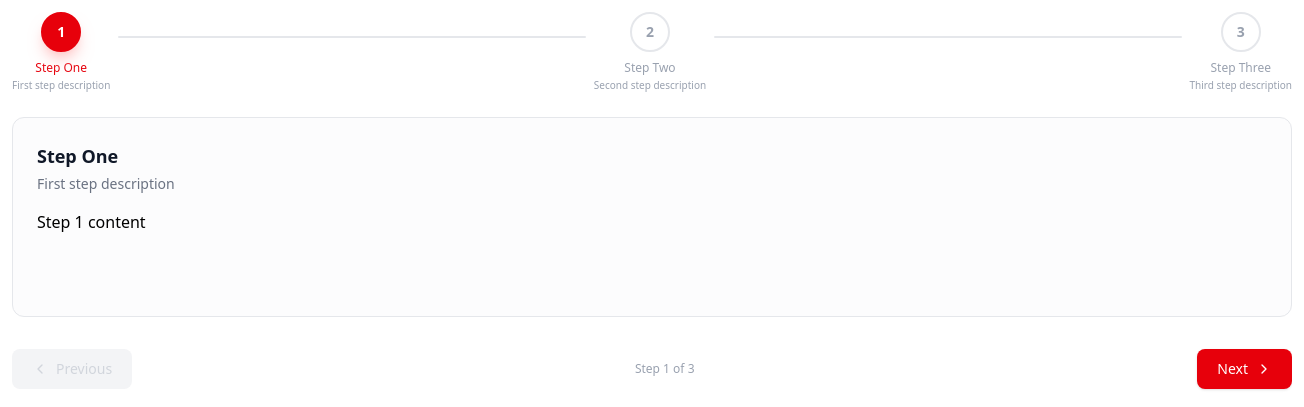
Test: Form Component — Multi-Stage Navigation › Step Navigation › shows the Submit button on the last step
Click the button "Next" at (1245, 369), box [1197, 349, 1292, 389]
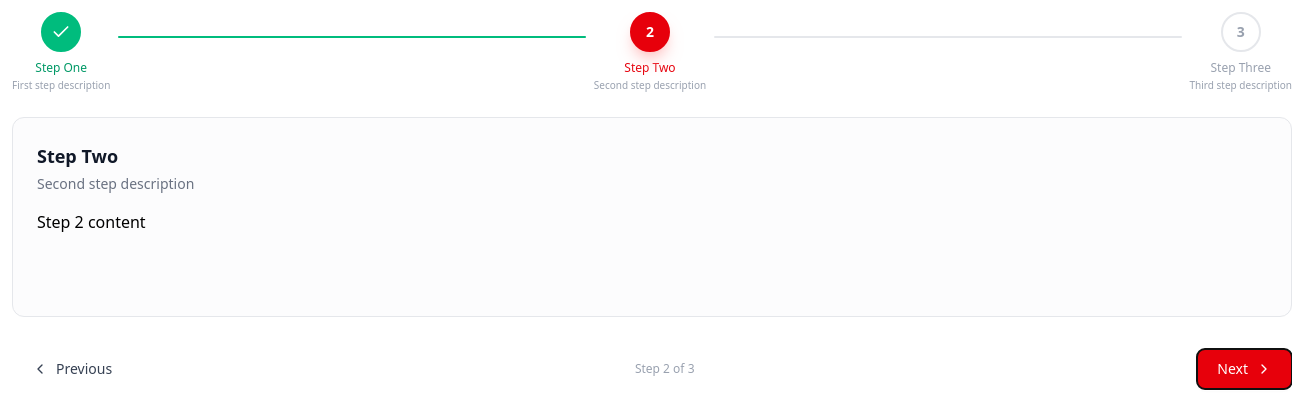
Click the button "Next" at (1245, 369), box [1197, 349, 1292, 389]
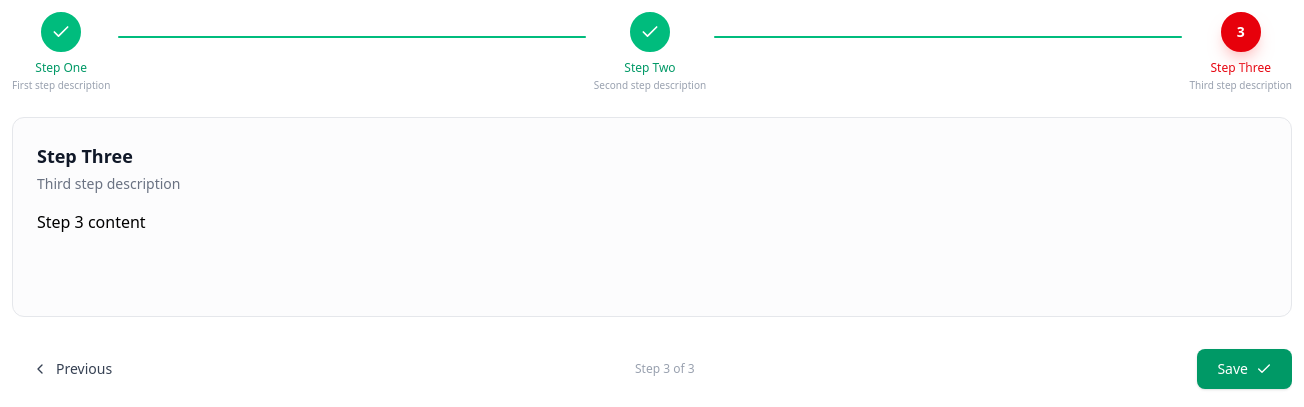
Expected: the button "Save" is shown, [1197, 349, 1292, 389]
Expected: the button "Next" is gone
